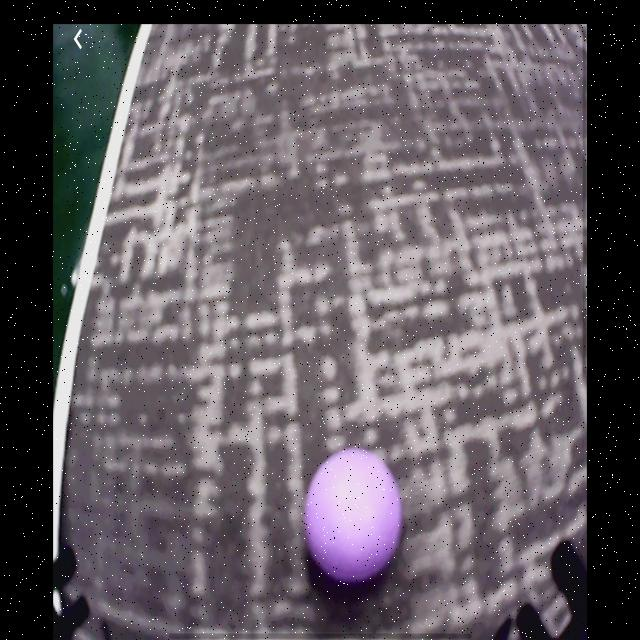ball: (305, 449, 402, 583)
